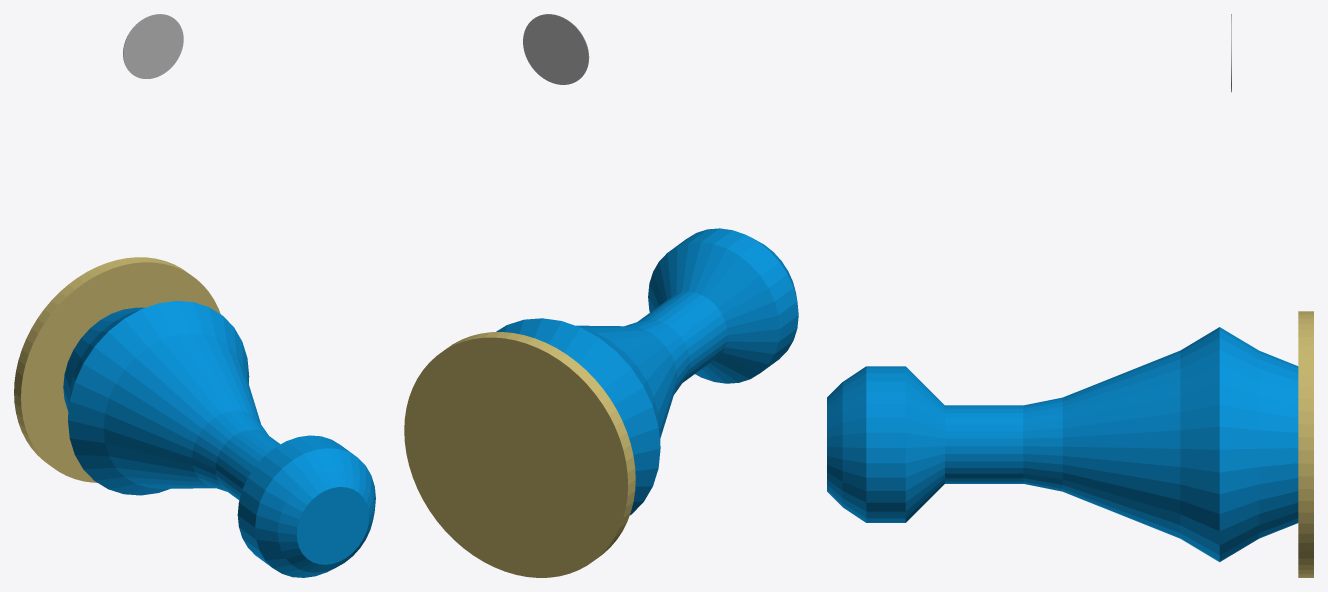
Rendered from blue_pawn_with_face.glb.
3 views of the same model, side by side, from view 1: azimuth 30°, elevation 25°; view 2: azimuth 150°, elevation 25°; view 3: azimuth 270°, elevation 25° (orthographic). The views are drawn at different scales.
Visible parts, largest first — view 1: world; view 2: world; view 3: world.
Part boxes in pixels (x1,y1,x2,y2): world: [14, 14, 375, 577]; world: [404, 14, 798, 577]; world: [827, 14, 1313, 577].
Size of the model in its own units: 0.34 by 0.77 by 0.62.
